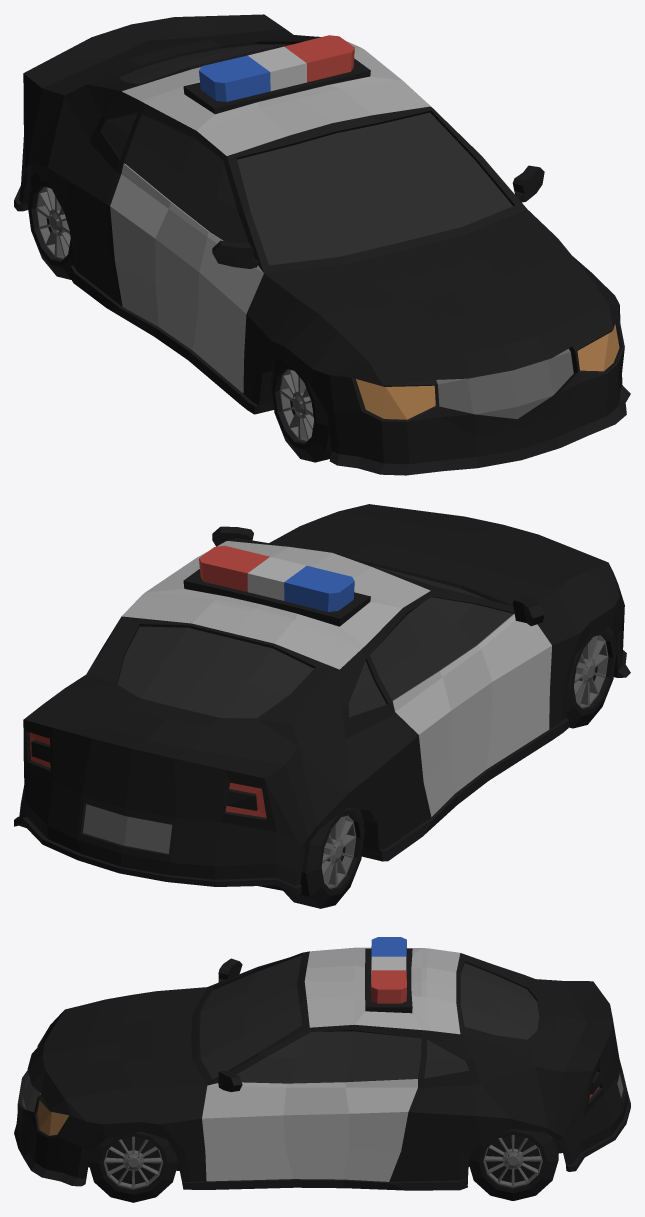
File: patrulla.glb
3 views of the same model, one above another, from view 1: azimuth 30°, elevation 25°; view 2: azimuth 150°, elevation 25°; view 3: azimuth 270°, elevation 25° (orthographic). The views are drawn at different scales.
Visible parts, largest first — view 1: Cop_Cube.001; view 2: Cop_Cube.001; view 3: Cop_Cube.001.
Boxes of the visible parts, bbox=[...] form: Cop_Cube.001: bbox=[14, 14, 630, 475]; Cop_Cube.001: bbox=[14, 504, 630, 908]; Cop_Cube.001: bbox=[14, 937, 630, 1202].
Bounding box in the file's own units: 2 × 1.39 × 4.2.
